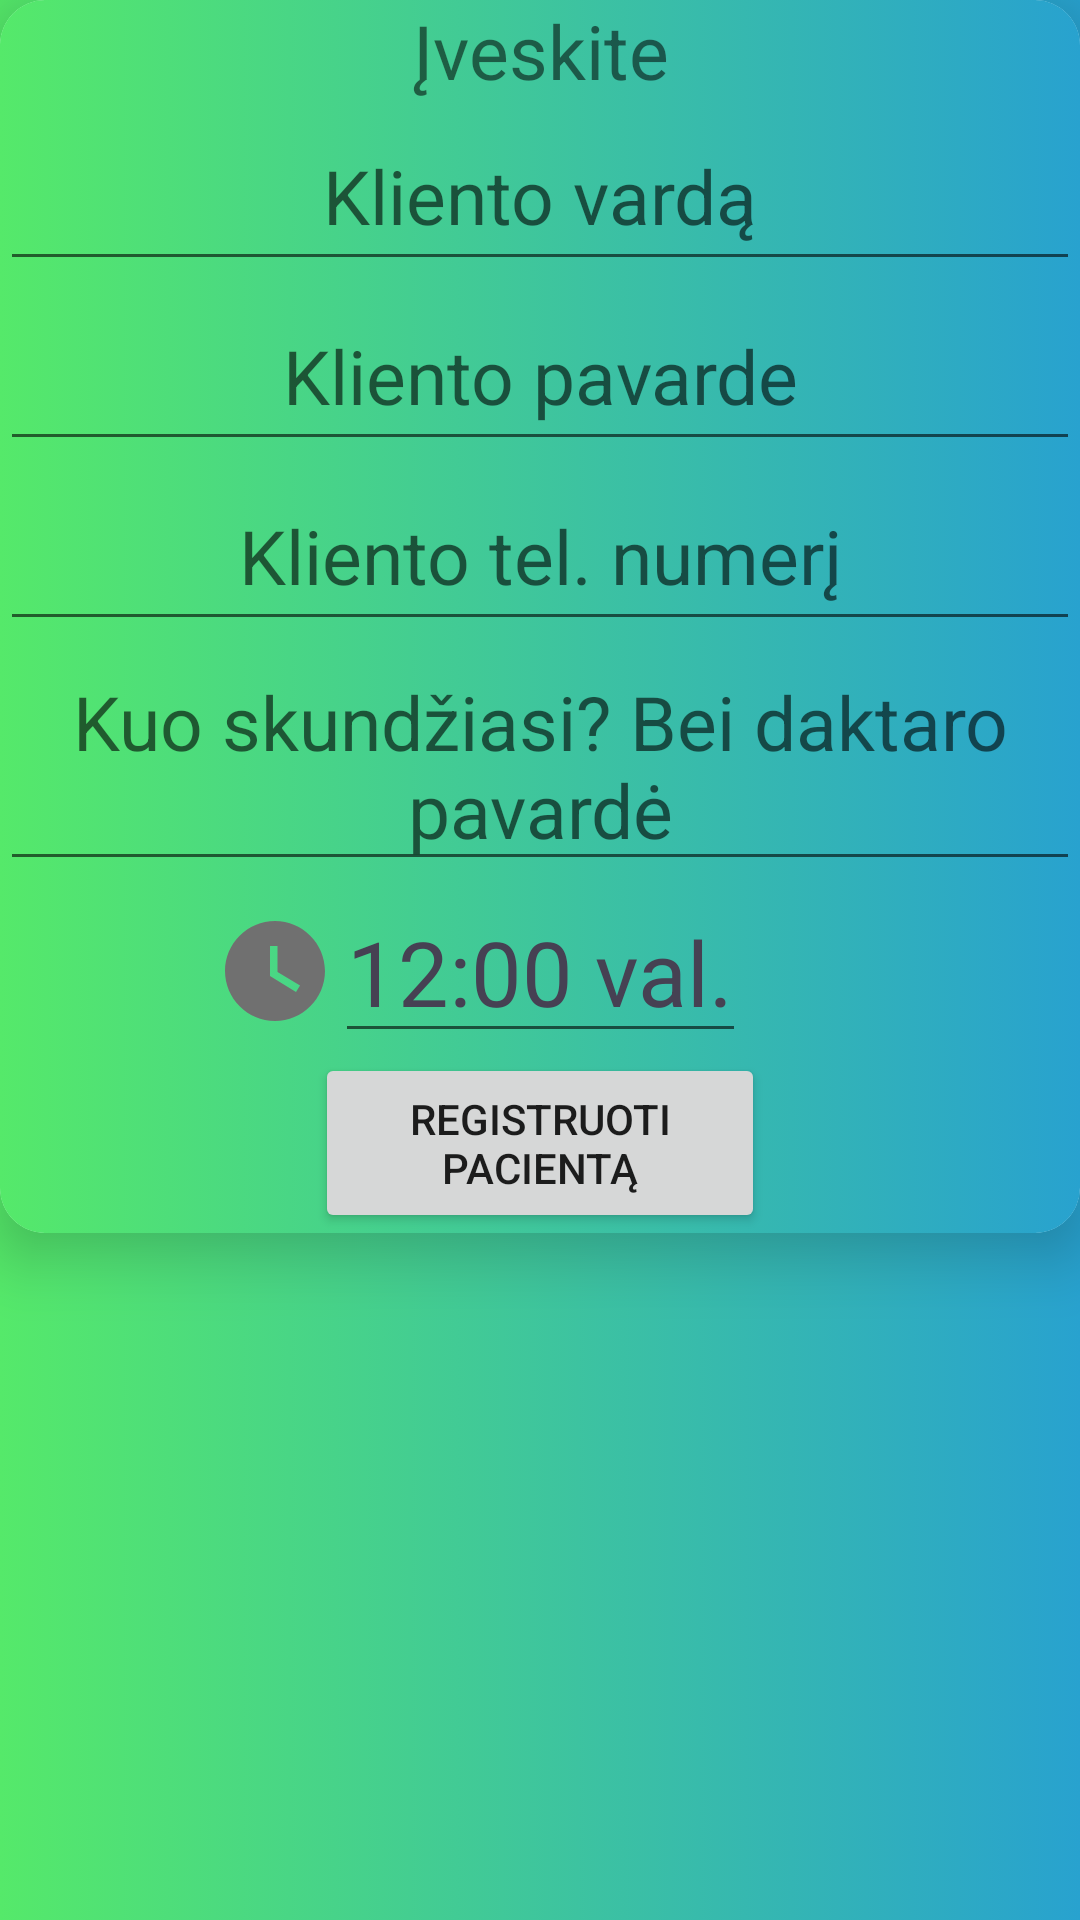

Where icons sit on this 1080px x 1920px app screen, as [x1,y1,x2,y2]:
watch: [225,921,325,1021]
